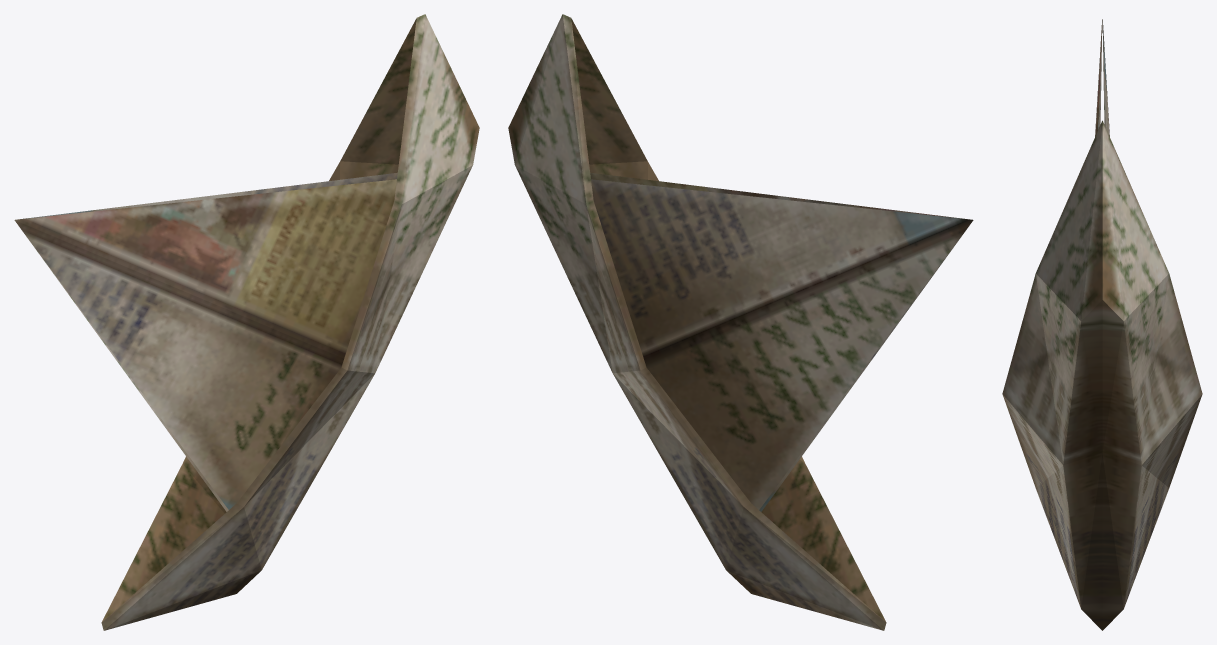
The model's file is Sheep_paperBoat.obj.
3 views of the same model, side by side, from view 1: azimuth 30°, elevation 25°; view 2: azimuth 150°, elevation 25°; view 3: azimuth 270°, elevation 25° (orthographic). The views are drawn at different scales.
Parts seen in each view (by area): view 1: Sheep_paperBoat_tri; view 2: Sheep_paperBoat_tri; view 3: Sheep_paperBoat_tri.
Part boxes in pixels (<box>): Sheep_paperBoat_tri: <box>14,14,479,630</box>; Sheep_paperBoat_tri: <box>508,14,973,630</box>; Sheep_paperBoat_tri: <box>1002,19,1202,630</box>.
Size of the model in its own units: 0.3442 by 0.3806 by 0.1116.
Materials: 1 (1 with a texture image).
